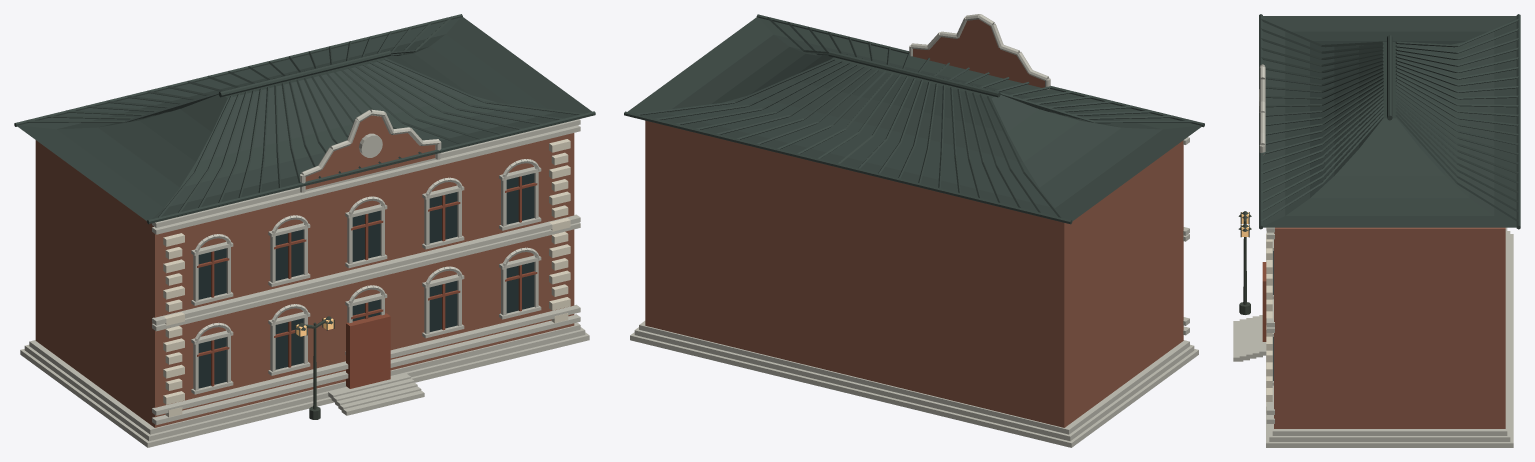
Rendered from beishan.glb.
3 views of the same model, side by side, from view 1: azimuth 30°, elevation 25°; view 2: azimuth 150°, elevation 25°; view 3: azimuth 270°, elevation 25° (orthographic). The views are drawn at different scales.
Parts seen in each view (by area): view 1: Historic_RedBrick, Dark_Tile, Limestone, Deep_Glazing, Lacquered_Wood, White_Plaster, Patinated_Iron; view 2: Historic_RedBrick, Dark_Tile, Limestone; view 3: Dark_Tile, Historic_RedBrick, Limestone, White_Plaster, Patinated_Iron, Lacquered_Wood.
Boxes of the visible parts, x1,y1,x2,y2 form: Historic_RedBrick: [35, 115, 574, 427]; Dark_Tile: [14, 14, 595, 224]; Limestone: [20, 109, 589, 447]; Deep_Glazing: [198, 173, 534, 388]; Lacquered_Wood: [197, 176, 537, 388]; White_Plaster: [163, 139, 570, 417]; Patinated_Iron: [295, 316, 334, 419]; Historic_RedBrick: [645, 19, 1183, 427]; Dark_Tile: [624, 14, 1204, 224]; Limestone: [630, 14, 1198, 447]; Dark_Tile: [1259, 14, 1520, 229]; Historic_RedBrick: [1274, 227, 1505, 428]; Limestone: [1233, 64, 1513, 447]; White_Plaster: [1266, 228, 1272, 412]; Patinated_Iron: [1238, 211, 1251, 314]; Lacquered_Wood: [1262, 262, 1266, 341].
Size of the model in its own units: 13.84 by 8.46 by 7.95.
